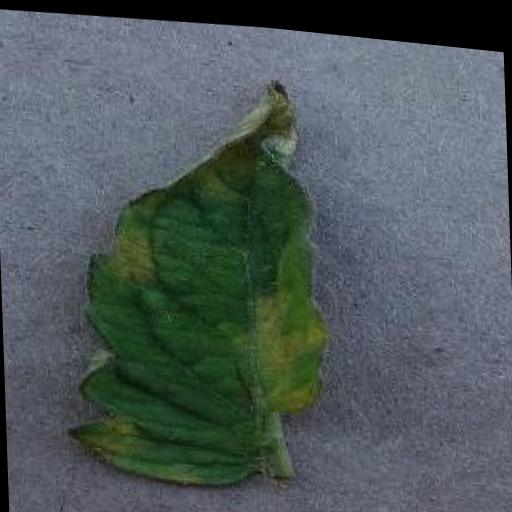Leaf Mold: (58, 53, 327, 504)
